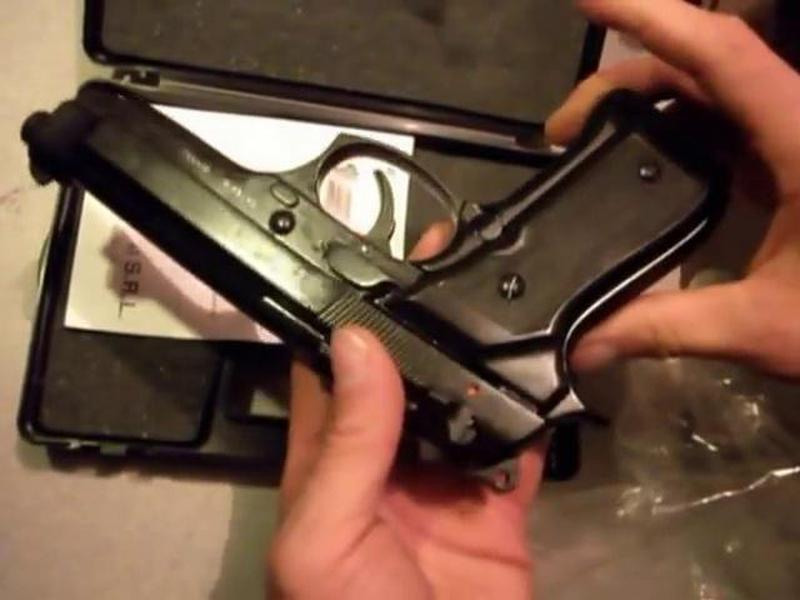Pistola: (46, 75, 731, 481)
